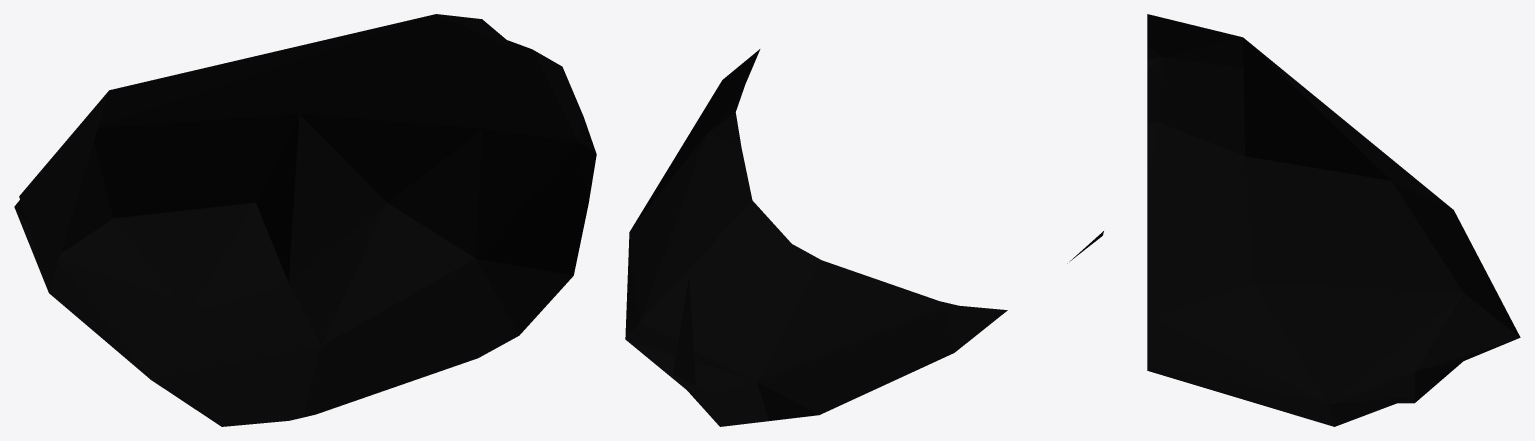
The picture shows the model from 3 angles, left to right: view 1: azimuth 30°, elevation 25°; view 2: azimuth 150°, elevation 25°; view 3: azimuth 270°, elevation 25°; orthographic projection. The views are drawn at different scales.
Bounding box in the file's own units: 0.4562 × 0.3244 × 0.3642.
Materials: 2 (2 with a texture image).
